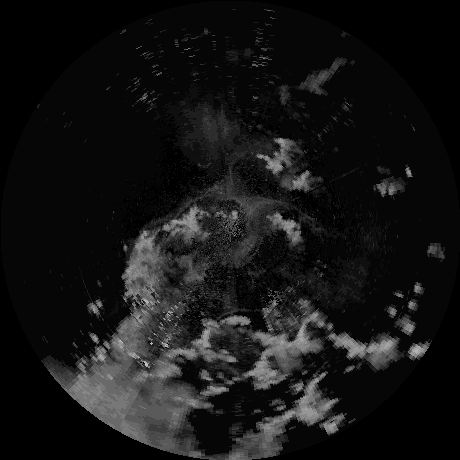frontgust: (150, 190, 220, 224), (268, 199, 321, 230)
